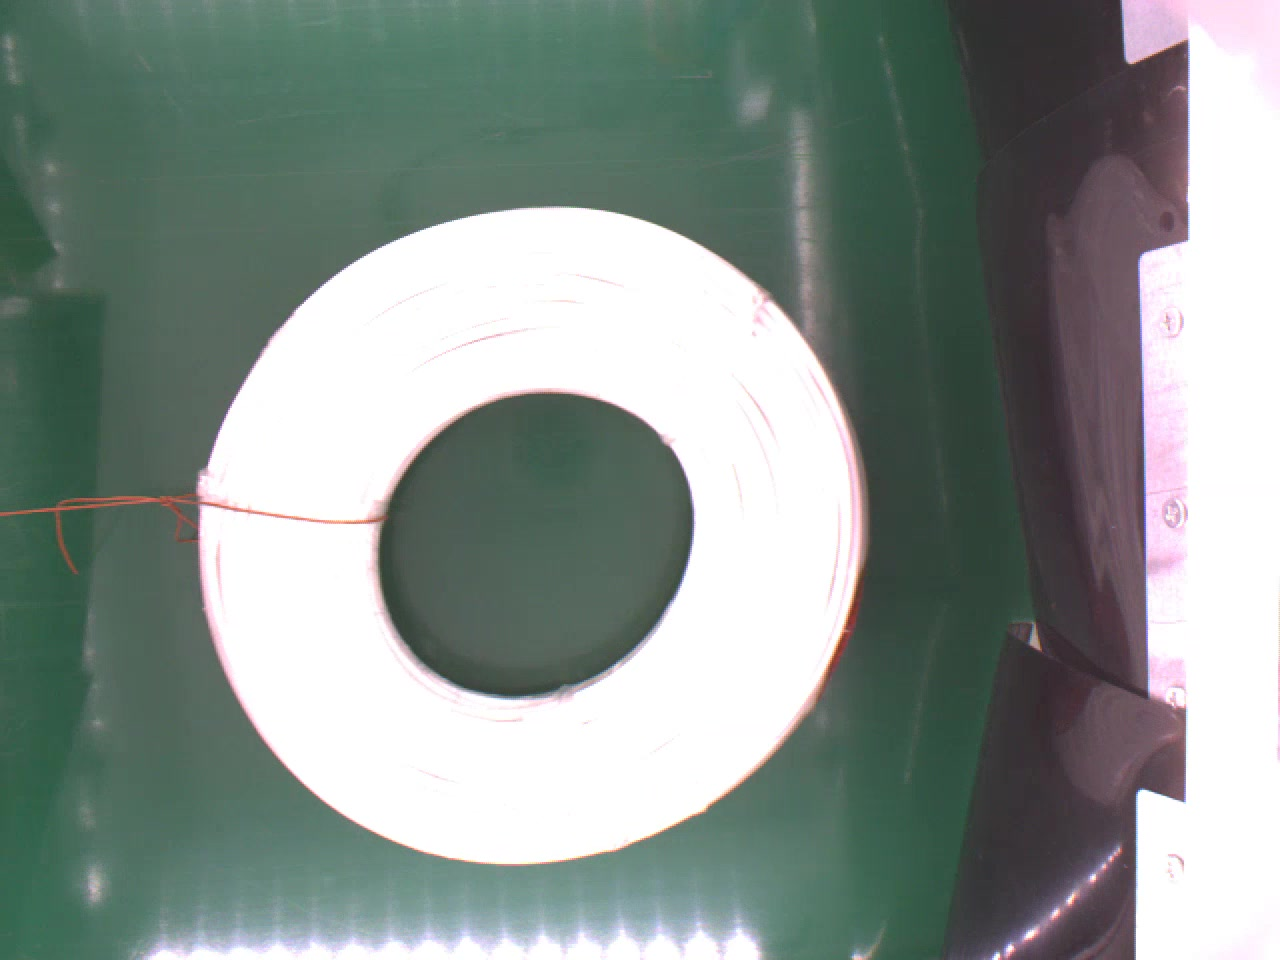white: (194, 202, 864, 868)
